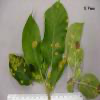Apple rust leaf: (40, 0, 69, 72), (20, 11, 45, 73), (65, 19, 86, 74), (7, 52, 33, 88), (76, 73, 99, 99)
